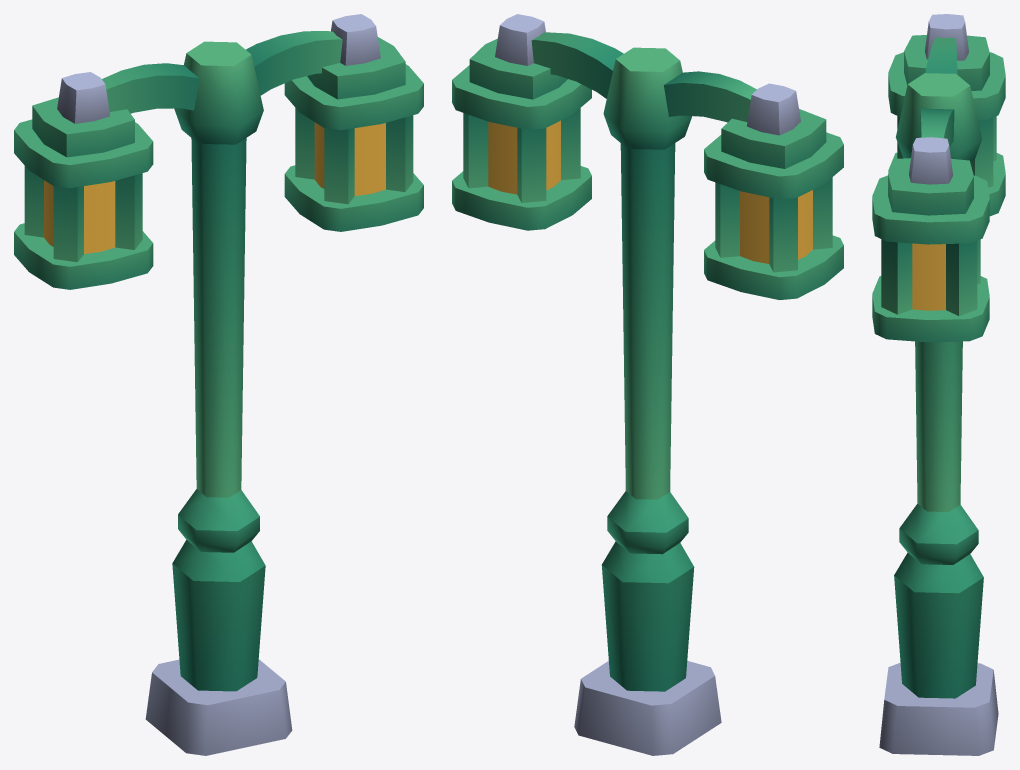
The model's file is lightpost-double.001_lev1.glb.
The picture shows the model from 3 angles, left to right: view 1: azimuth 30°, elevation 25°; view 2: azimuth 150°, elevation 25°; view 3: azimuth 270°, elevation 25°; orthographic projection. The views are drawn at different scales.
Parts seen in each view (by area): view 1: lightpost-double.001_lev1; view 2: lightpost-double.001_lev1; view 3: lightpost-double.001_lev1.
Boxes of the visible parts, bbox=[...] form: lightpost-double.001_lev1: bbox=[14, 14, 423, 755]; lightpost-double.001_lev1: bbox=[452, 14, 843, 755]; lightpost-double.001_lev1: bbox=[872, 14, 1005, 755].
Size of the model in its own units: 3.63 by 6.33 by 1.18.
Materials: 1 (1 with a texture image).
